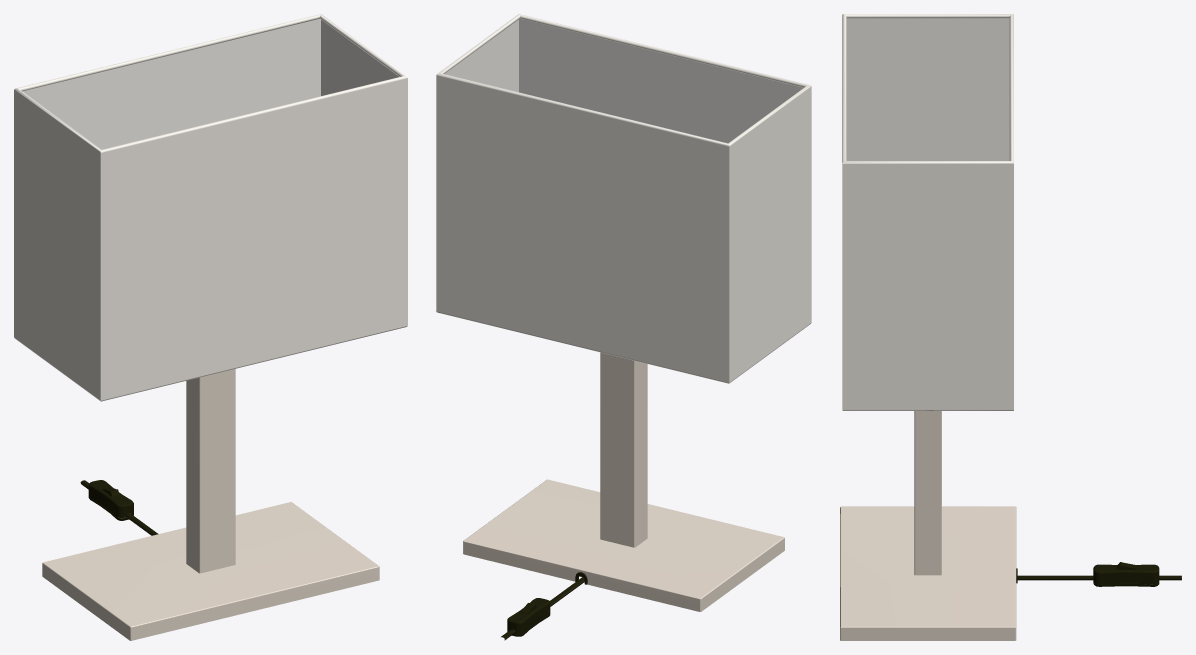
Rendered from TOMELILLA table lamp.glb.
The picture shows the model from 3 angles, left to right: view 1: azimuth 30°, elevation 25°; view 2: azimuth 150°, elevation 25°; view 3: azimuth 270°, elevation 25°; orthographic projection. The views are drawn at different scales.
Parts seen in each view (by area): view 1: Mesh_0; view 2: Mesh_0; view 3: Mesh_0.
Boxes of the visible parts, x1,y1,x2,y2 form: Mesh_0: (14, 14, 407, 640); Mesh_0: (436, 14, 811, 640); Mesh_0: (840, 14, 1181, 640).
Size of the model in its own units: 0.32 by 0.4968 by 0.3103.
1 material, 1 textured.
